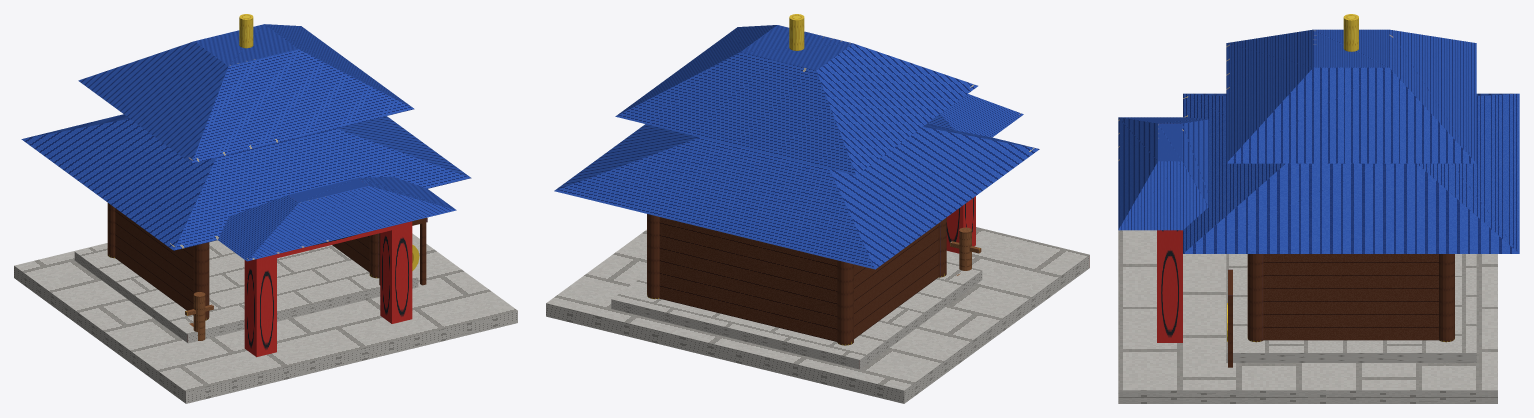
File: building_dojo_03_courtyard_temple_dojo.glb
3 renders of one model, left to right at view 1: azimuth 30°, elevation 25°; view 2: azimuth 150°, elevation 25°; view 3: azimuth 270°, elevation 25°, orthographic. The views are drawn at different scales.
Parts seen in each view (by area): view 1: Building_Dojo_03_Courtyard_Temple; view 2: Building_Dojo_03_Courtyard_Temple; view 3: Building_Dojo_03_Courtyard_Temple.
Part boxes in pixels (x1,y1,x2,y2): Building_Dojo_03_Courtyard_Temple: (14,14,517,403); Building_Dojo_03_Courtyard_Temple: (546,14,1089,403); Building_Dojo_03_Courtyard_Temple: (1118,14,1519,403).
Bounding box in the file's own units: 9.8 × 7.6 × 9.3.
1 material, 1 textured.
